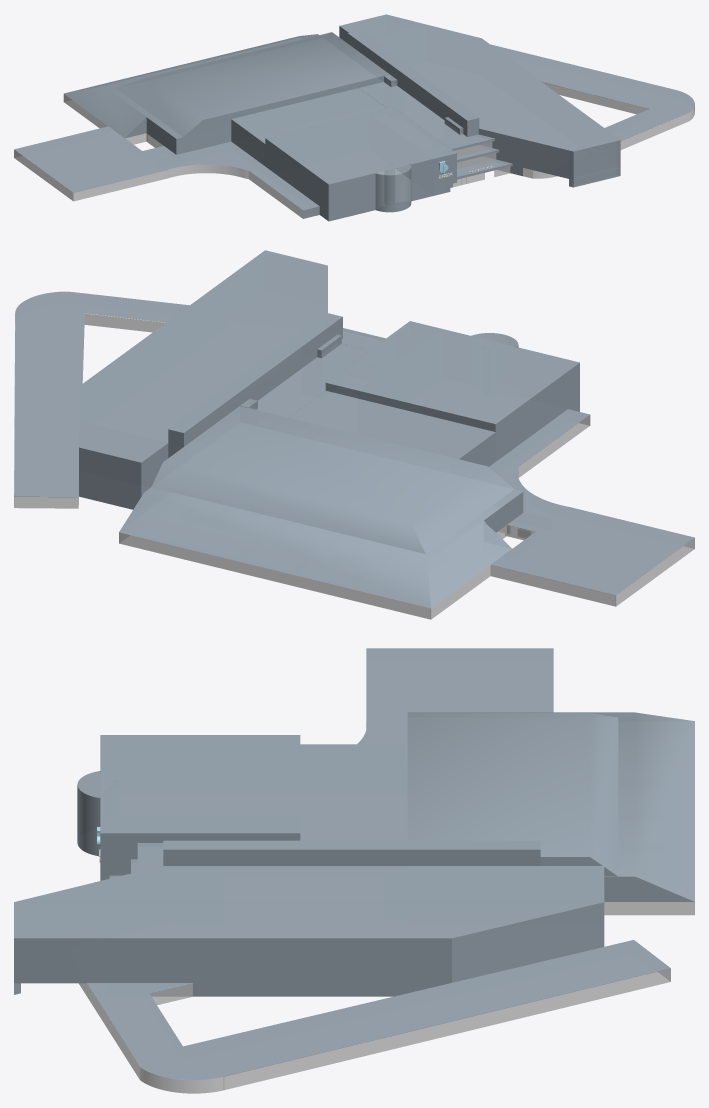
File: Project_SAS_Main.obj
3 views of the same model, one above another, from view 1: azimuth 30°, elevation 25°; view 2: azimuth 150°, elevation 25°; view 3: azimuth 270°, elevation 25° (orthographic). The views are drawn at different scales.
Visible parts, largest first — view 1: Cube.5_4, Cube_2, Cube.1_5, Cube.2_5, Cube.1_2, RS-RoofTop, Cube.4_4, Cube.7_1, Front-RightWall_3, Cube.6_1, Cube_7, Front-RightWall.3_1 (+21 smaller); view 2: Cube.5_4, Cube.4_4, Cube_2, RS-RoofTop, Cube.1_5, Cube.2_5, Cube.1_2, Cube.7_1, Front-RightWall.8, Front-RightWall_3, Cube.6_1, Front-RightWall.3_2 (+17 smaller); view 3: Cube.5_4, Cube_2, RS-RoofTop, Front-RightWall.1_4, Cube.1_5, Cube.2_5, Cube.4_4, Cube.1_2, Cube.7_1, Front-RightWall.2_2, Cube.4_2, Cube.10_1 (+11 smaller).
Boxes of the visible parts, <box> form: Cube.5_4: <box>116,32,389,137</box>; Cube_2: <box>265,107,455,184</box>; Cube.1_5: <box>387,14,619,151</box>; Cube.2_5: <box>340,14,572,151</box>; Cube.1_2: <box>14,126,166,192</box>; RS-RoofTop: <box>490,44,694,116</box>; Cube.4_4: <box>64,34,318,154</box>; Cube.7_1: <box>232,88,386,143</box>; Front-RightWall_3: <box>265,138,328,221</box>; Cube.6_1: <box>359,82,462,139</box>; Cube_7: <box>569,140,620,187</box>; Front-RightWall.3_1: <box>328,173,375,221</box>; Cube.5_4: <box>151,406,514,553</box>; Cube.4_4: <box>119,487,522,608</box>; Cube_2: <box>326,321,579,424</box>; RS-RoofTop: <box>14,291,85,497</box>; Cube.1_5: <box>79,250,327,446</box>; Cube.2_5: <box>79,266,327,462</box>; Cube.1_2: <box>491,507,694,595</box>; Cube.7_1: <box>289,391,495,458</box>; Front-RightWall.8: <box>119,532,430,619</box>; Front-RightWall_3: <box>495,363,579,461</box>; Cube.6_1: <box>256,343,369,417</box>; Front-RightWall.3_2: <box>79,447,141,509</box>; Cube.5_4: <box>407,713,618,876</box>; Cube_2: <box>100,735,299,833</box>; RS-RoofTop: <box>134,940,670,1080</box>; Front-RightWall.1_4: <box>106,938,451,996</box>; Cube.1_5: <box>14,902,603,938</box>; Cube.2_5: <box>16,866,604,901</box>; Cube.4_4: <box>407,712,694,901</box>; Cube.1_2: <box>367,648,553,720</box>; Cube.7_1: <box>300,744,407,840</box>; Front-RightWall.2_2: <box>452,902,604,982</box>; Cube.4_2: <box>224,968,670,1089</box>; Cube.10_1: <box>163,850,540,865</box>.
Bounding box in the file's own units: 5957 × 481 × 3971.
